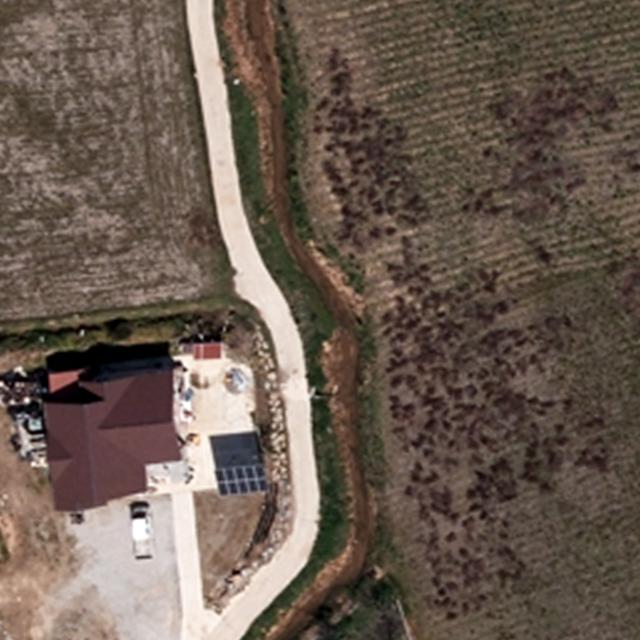panel: (211, 463, 269, 497)
